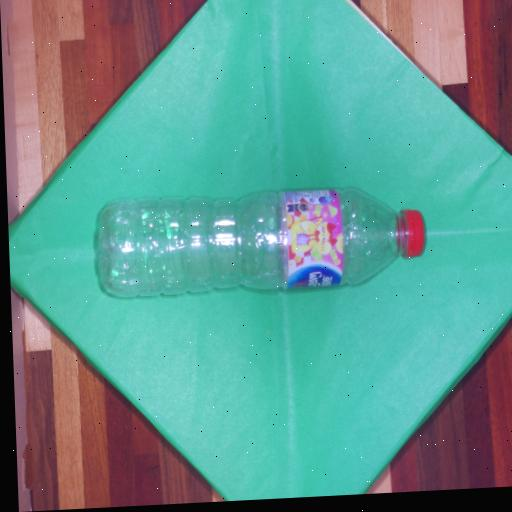bottle: (83, 152, 456, 317)
